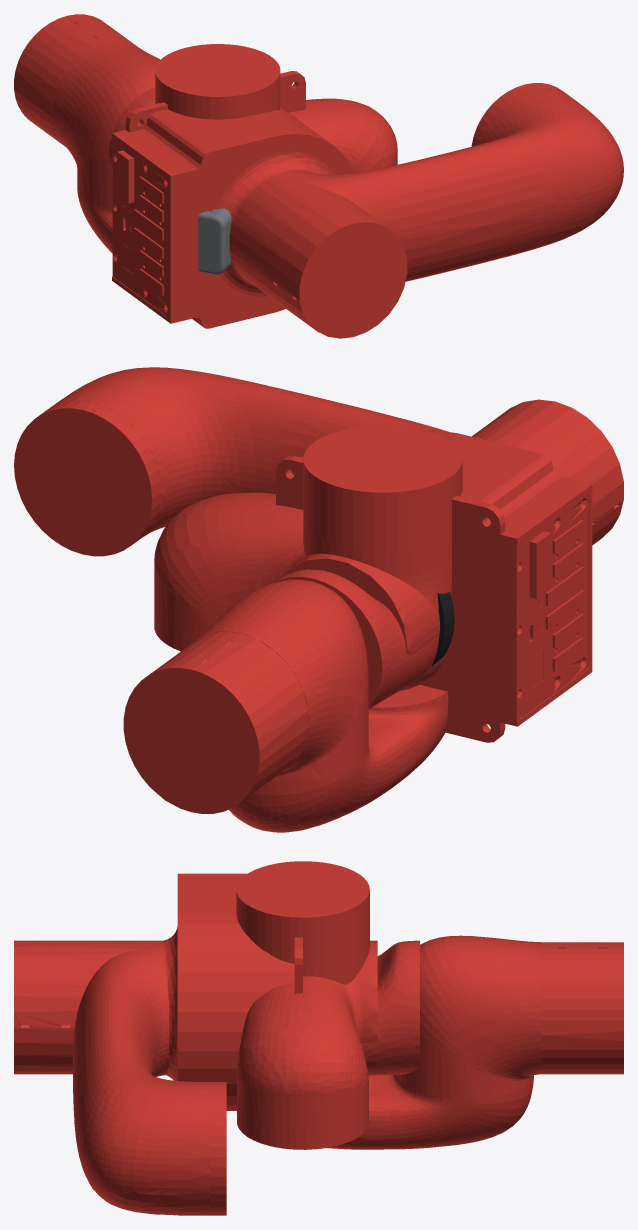
Rendered from arm.glb.
3 renders of one model, top to bottom at view 1: azimuth 30°, elevation 25°; view 2: azimuth 150°, elevation 25°; view 3: azimuth 270°, elevation 25°, orthographic. The views are drawn at different scales.
Visible parts, largest first — view 1: b1, b3, b5, b2, b4, b13; view 2: b5, b1, b3, b2, b4, b7; view 3: b5, b3, b1, b4, b2.
Part boxes in pixels (box(x1,y1,x2,y2)): b1: box(112, 71, 407, 338); b3: box(279, 83, 623, 281); b5: box(14, 14, 160, 253); b2: box(109, 44, 280, 173); b4: box(289, 98, 397, 172); b13: box(198, 208, 231, 274); b5: box(123, 579, 448, 832); b1: box(276, 399, 623, 742); b3: box(14, 367, 448, 556); b2: box(270, 425, 462, 709); b4: box(154, 492, 439, 654); b7: box(431, 592, 454, 667); b5: box(326, 935, 623, 1149); b3: box(73, 944, 226, 1215); b1: box(14, 873, 302, 1110); b4: box(237, 940, 377, 1149); b2: box(236, 861, 419, 1075).
Bounding box in the file's own units: 0.3218 × 0.1638 × 0.3651.
